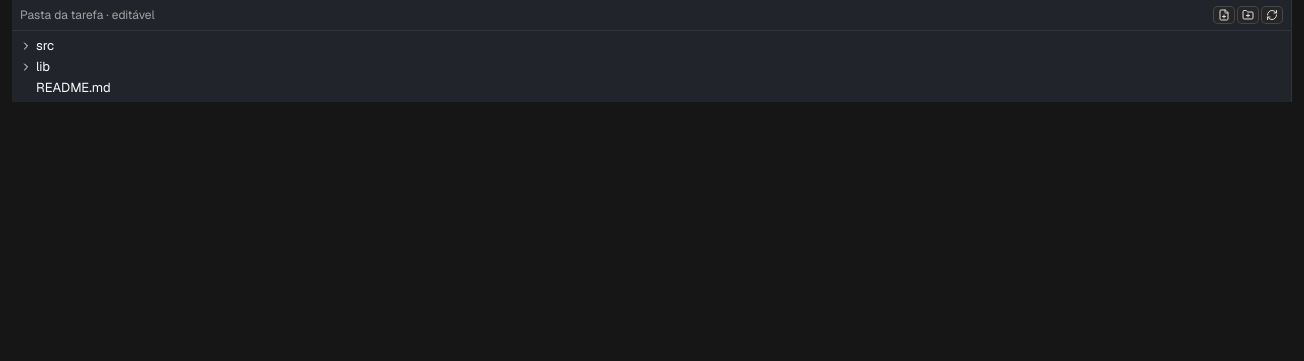
Test: explorador da árvore › Esc cancela a pasta nova sem criar nada
Expected: the text "README.md" is shown, [36,79,111,96]
Right-click the element showing "src lib README.md" at (652, 66), box [12,31,1291,102]
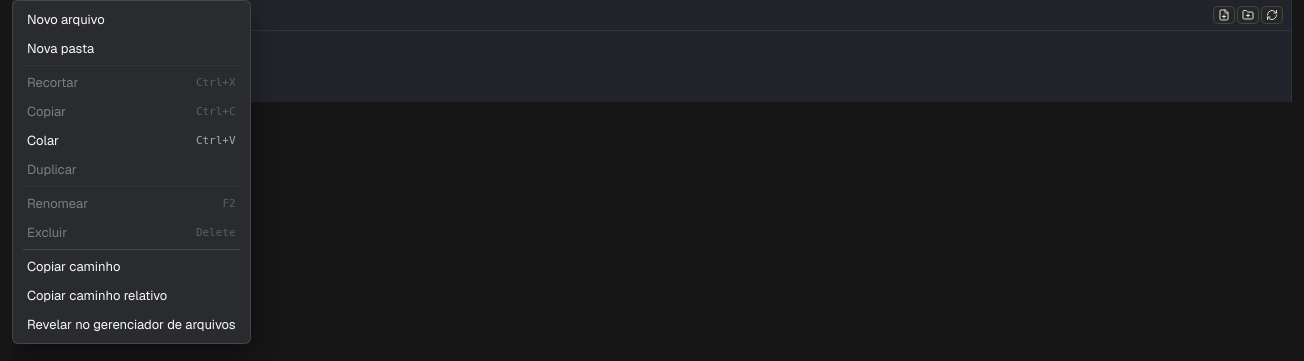
Click the menu item "Nova pasta" at (131, 48), box [17,34,246,63]
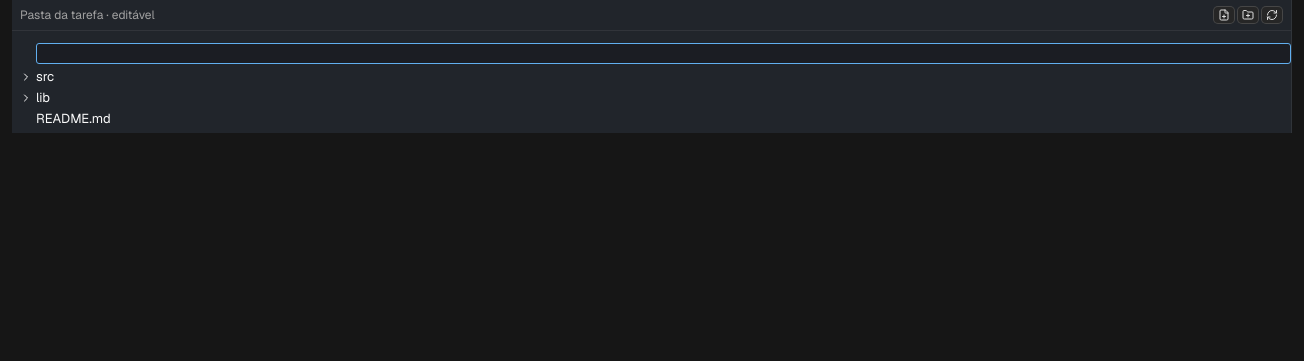
Press Escape in the field named "Nome", box [36,43,1291,64]
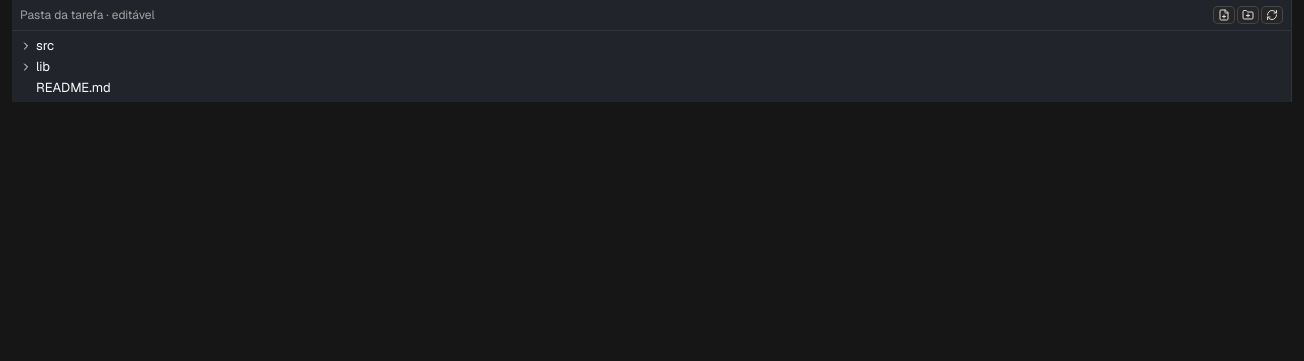
Expected: the field is gone
